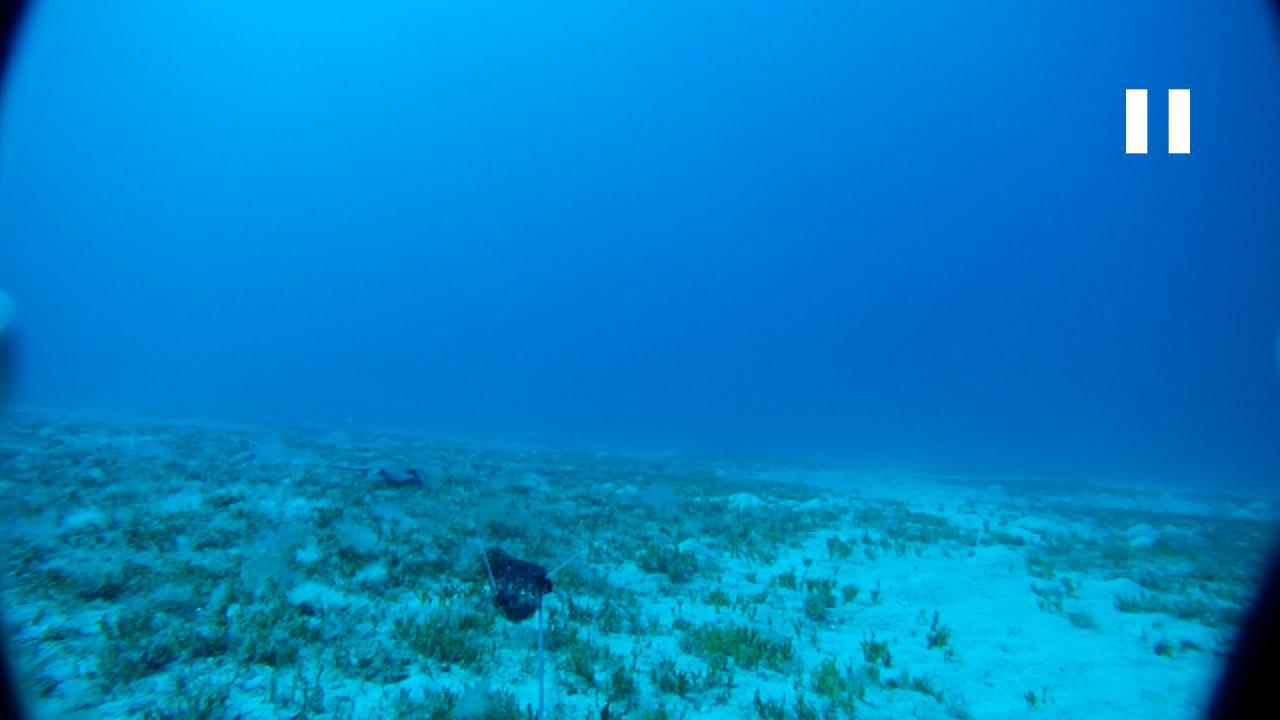dasyatis: (322, 462, 424, 488)
